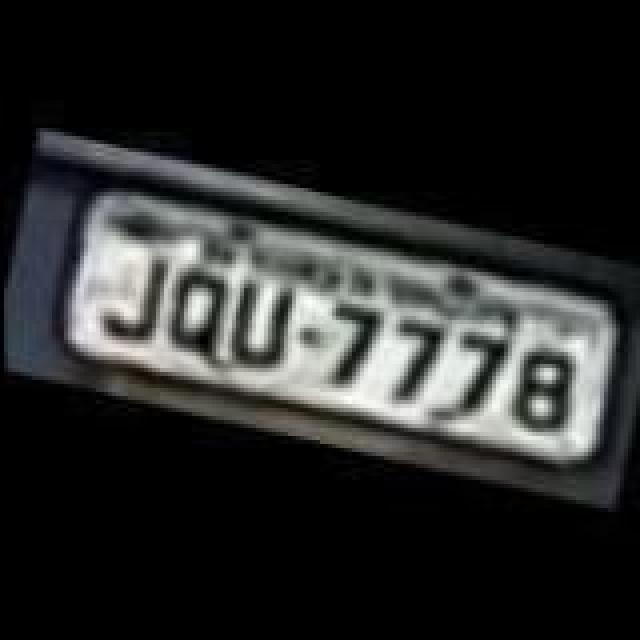7: (430, 322, 514, 426), (366, 310, 450, 414), (304, 296, 384, 400)
8: (498, 332, 586, 444)
J: (96, 244, 176, 348)
Q: (160, 256, 232, 356)
U: (216, 270, 304, 374)
